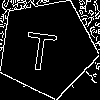T: (22, 23, 60, 72)
